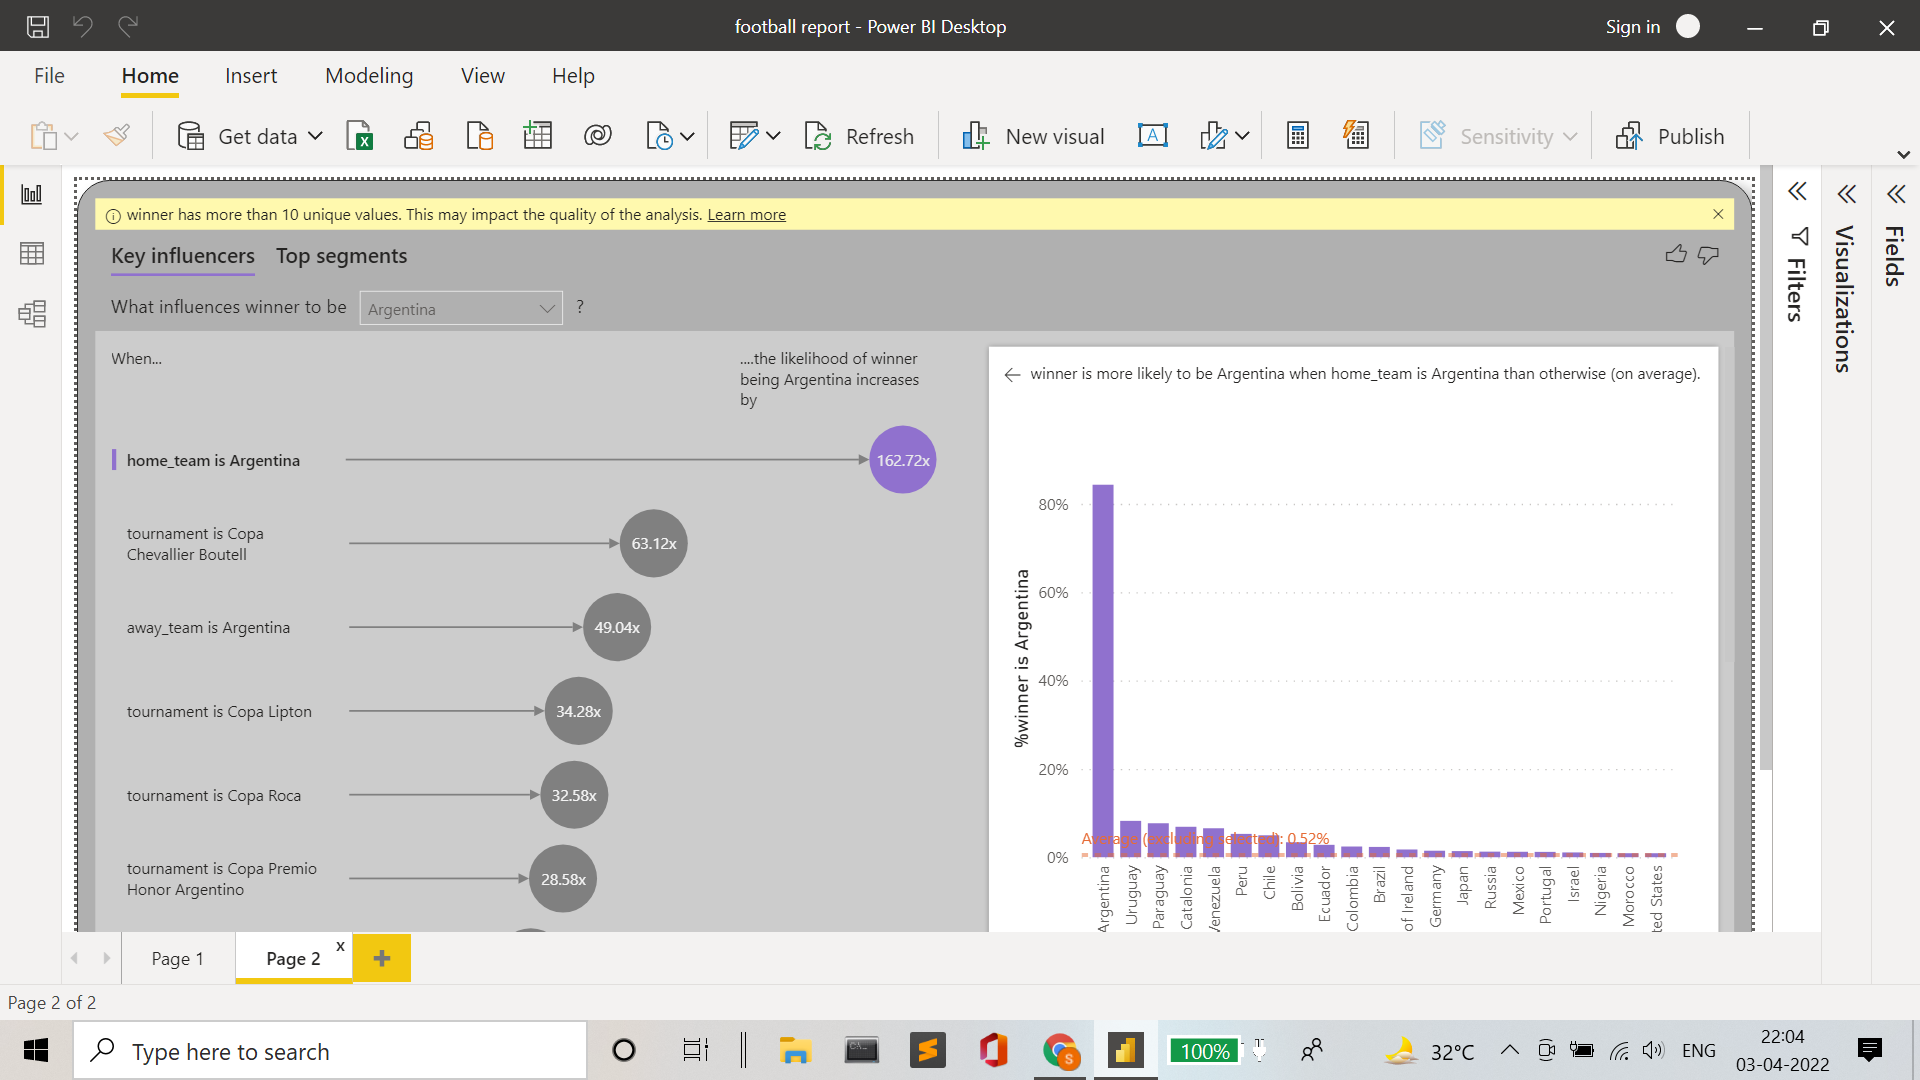

What the dashboard file says about the page in this screenshot:
{"tool":"powerbi","page":{"name":"Page 2","canvas":[1280,720],"ordinal":1},"visuals":[{"type":"keyDriversVisual","fields":{"Target":["llsd.win_by"],"ExplainBy":["llsd.tournament","llsd.city","llsd.home_team","llsd.away_team"]},"box":[0,0,1280,719.8],"z":0}]}

Visuals, with their boxes on the page's 1280x720 design canvas (x1, y1, x2, y2). These are canvas units, not pixel positions in the 1920x1080 screenshot, which may show the page scaled, cropped or inside an application window:
keyDriversVisual - llsd.win_by x llsd.tournament: (x1=0, y1=0, x2=1280, y2=720)
